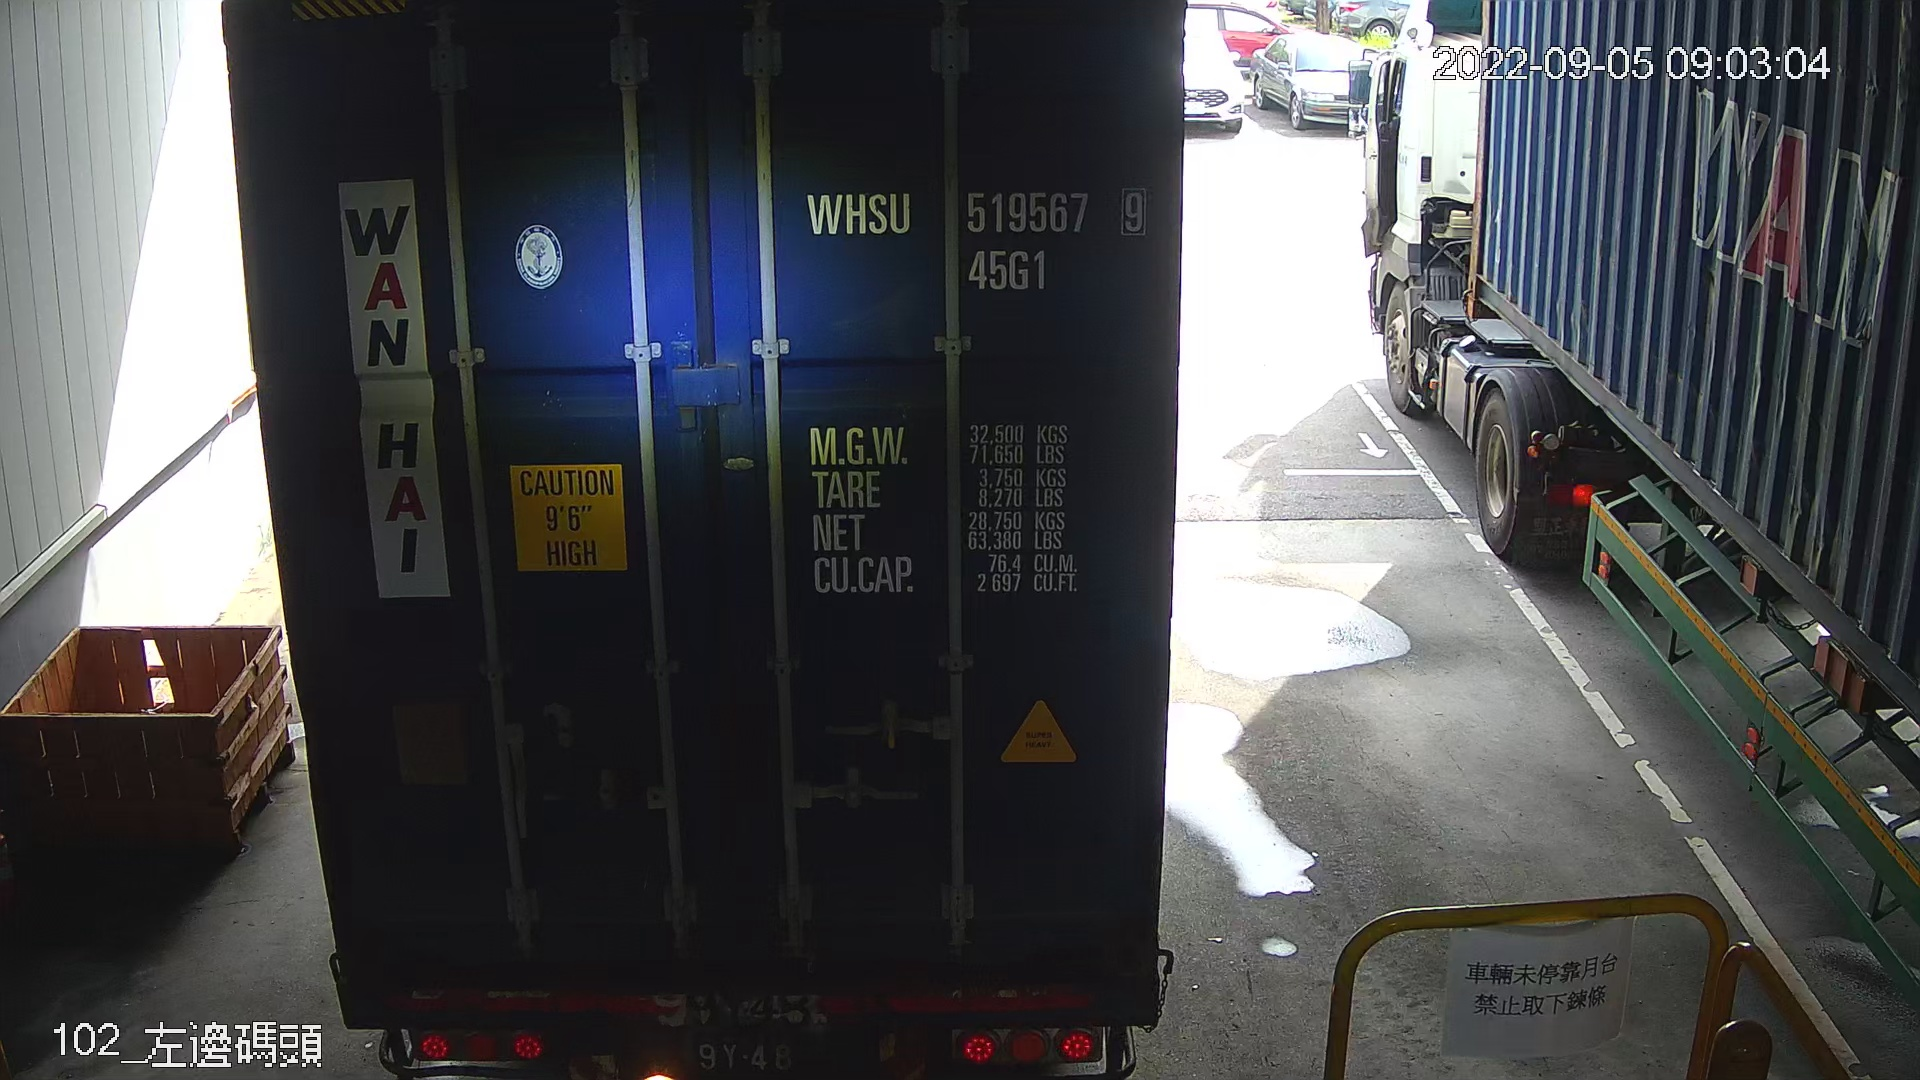container: (794, 174, 1156, 305)
